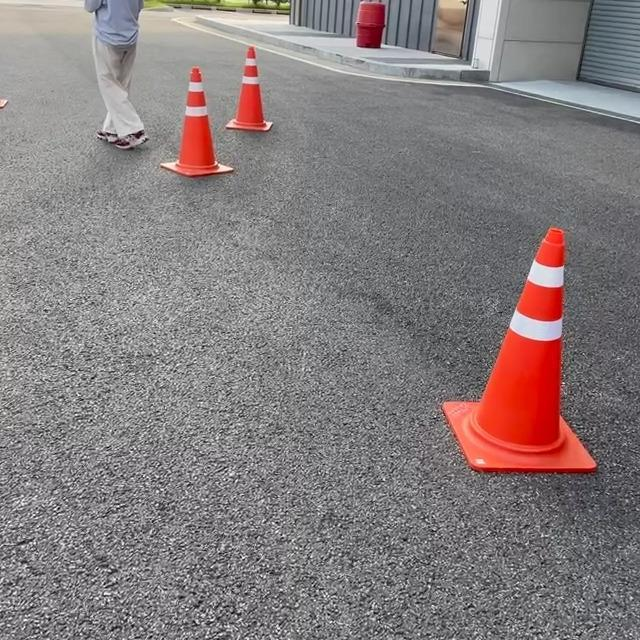fallen_object: (417, 185, 626, 523), (152, 70, 237, 213), (206, 39, 305, 153)
